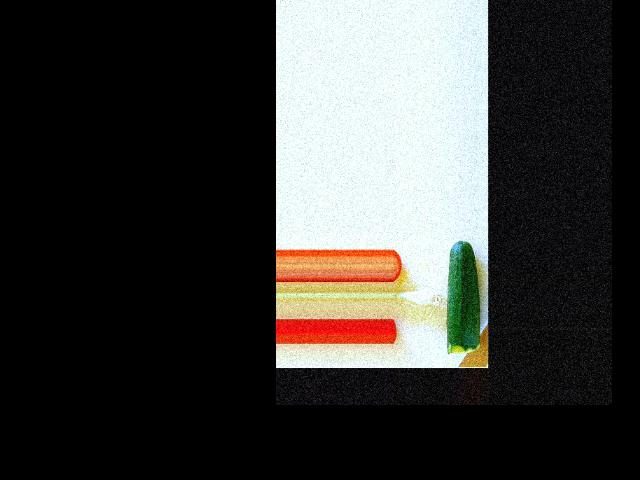cucumber: (447, 239, 480, 354)
